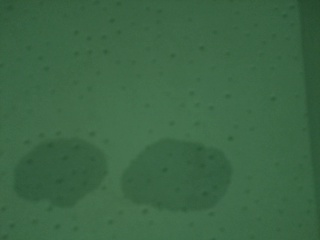Water_detected: (126, 148, 199, 201), (21, 147, 82, 193)
